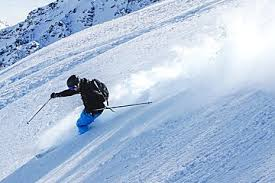skier: (20, 55, 161, 162)
